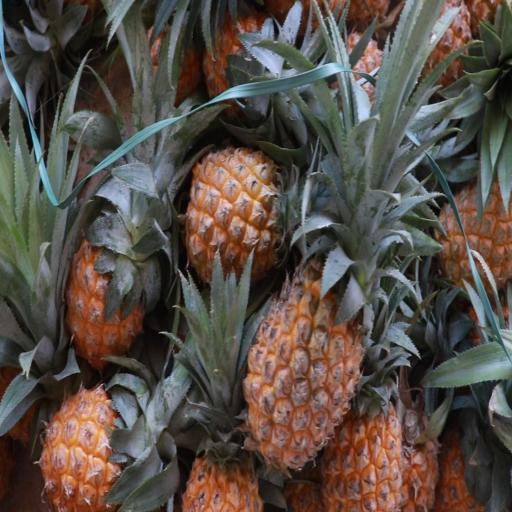Pineapple - v8 v1: (236, 237, 382, 480), (180, 138, 319, 298), (61, 203, 170, 375), (37, 374, 170, 512), (179, 366, 268, 512), (198, 0, 301, 126), (317, 367, 406, 512)
